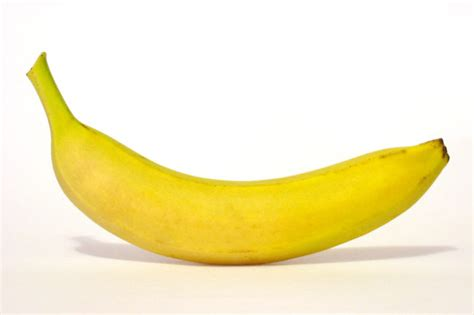banana: (42, 116, 454, 265)
